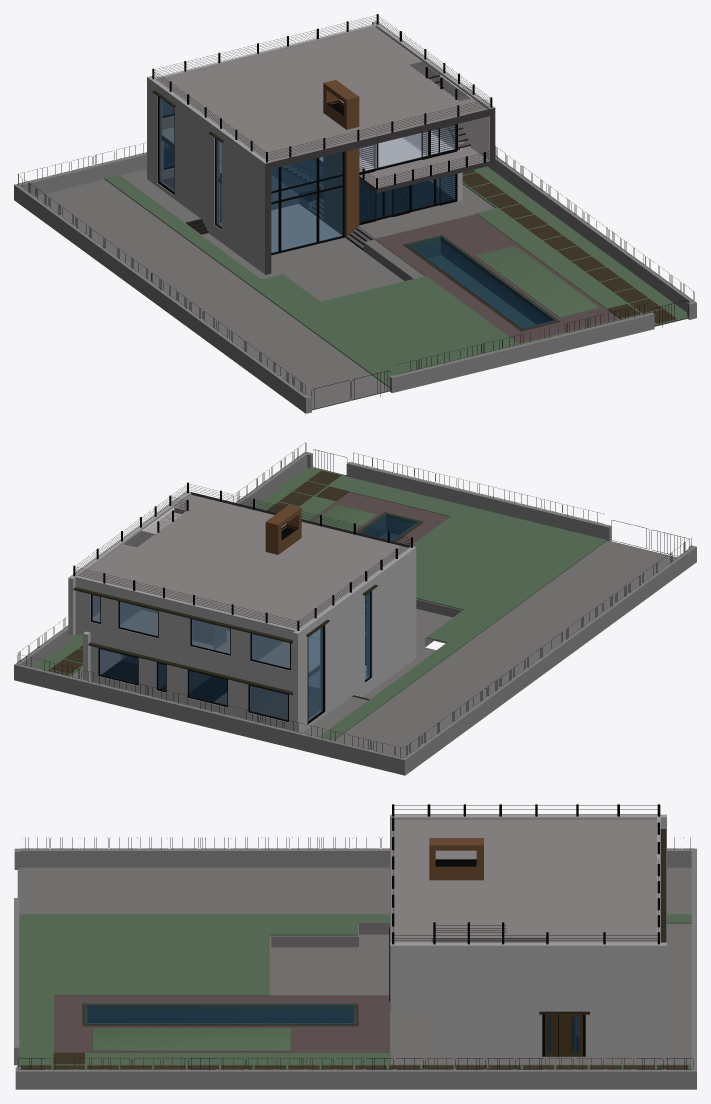
The model's file is modern_luxury_villa_house_building_with_pool.glb.
3 renders of one model, top to bottom at view 1: azimuth 30°, elevation 25°; view 2: azimuth 150°, elevation 25°; view 3: azimuth 270°, elevation 25°, orthographic. The views are drawn at different scales.
Visible parts, largest first — view 1: Rectangle001, Line001, Box055, Line037, Box032, Rectangle002, Box119, Line038, Rectangle004, Line012, Box029, Box133 (+15 smaller); view 2: Rectangle001, Box055, Line001, Line037, Box034, Box032, Line038, Line039, Rectangle002, Box070, Rectangle004, Box037 (+15 smaller); view 3: Rectangle001, Box055, Line001, Line037, Box037, Rectangle002, Box033, Box025, Box029, Box133, Box032, Rectangle004 (+6 smaller).
Boxes of the visible parts, <box> form: Rectangle001: <box>35,169,687,410</box>; Line001: <box>104,166,688,387</box>; Box055: <box>159,27,487,162</box>; Line037: <box>14,152,696,413</box>; Box032: <box>147,76,269,274</box>; Rectangle002: <box>374,214,619,343</box>; Box119: <box>271,152,342,253</box>; Line038: <box>389,312,654,392</box>; Rectangle004: <box>323,80,359,238</box>; Line012: <box>220,108,495,274</box>; Box029: <box>475,246,599,317</box>; Box133: <box>413,240,549,327</box>; Rectangle001: <box>71,541,676,757</box>; Box055: <box>80,495,408,629</box>; Line001: <box>34,467,606,740</box>; Line037: <box>14,451,696,775</box>; Box034: <box>75,576,297,730</box>; Box032: <box>293,546,416,732</box>; Line038: <box>346,462,611,541</box>; Line039: <box>93,602,319,672</box>; Rectangle002: <box>310,492,449,545</box>; Box070: <box>102,656,226,701</box>; Rectangle004: <box>265,505,301,554</box>; Box037: <box>68,491,191,635</box>; Rectangle001: <box>17,867,691,1064</box>; Box055: <box>390,820,656,942</box>; Line001: <box>17,914,691,1069</box>; Line037: <box>14,848,696,1089</box>; Box037: <box>390,942,666,1011</box>; Rectangle002: <box>54,995,389,1052</box>; Box033: <box>431,1011,666,1056</box>; Box025: <box>85,1004,355,1022</box>; Box029: <box>92,1028,290,1051</box>; Box133: <box>87,1009,353,1022</box>; Box032: <box>390,814,666,936</box>; Rectangle004: <box>429,838,483,880</box>.
Size of the model in its own units: 27.05 by 9.79 by 34.99.
